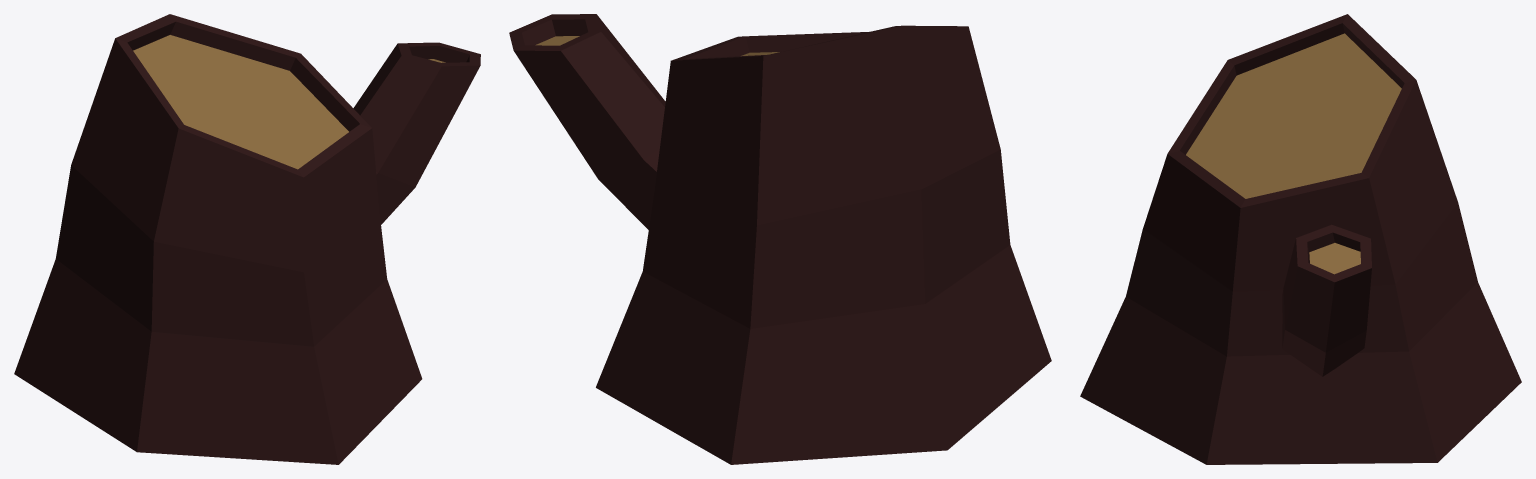
The model's file is TreeStump(2).fbx.
3 renders of one model, left to right at view 1: azimuth 30°, elevation 25°; view 2: azimuth 150°, elevation 25°; view 3: azimuth 270°, elevation 25°, orthographic. The views are drawn at different scales.
Parts seen in each view (by area): view 1: TreeStump(1); view 2: TreeStump(1); view 3: TreeStump(1).
Boxes of the visible parts, bbox=[...] form: TreeStump(1): bbox=[14, 14, 480, 464]; TreeStump(1): bbox=[509, 14, 1051, 464]; TreeStump(1): bbox=[1080, 14, 1521, 464].
Size of the model in its own units: 1.25 by 0.9664 by 1.14.
